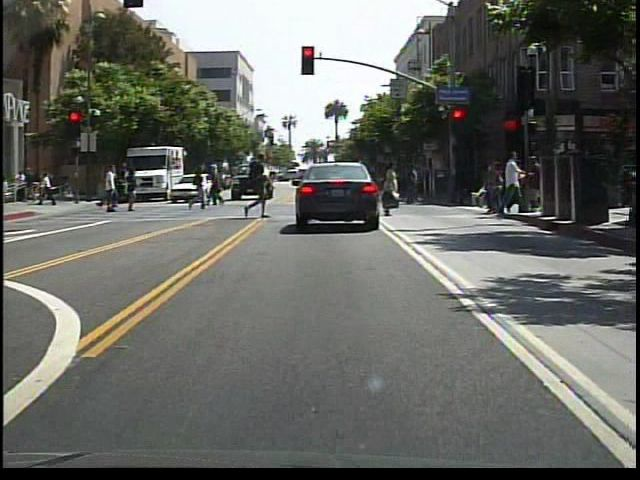person: (243, 150, 276, 224), (493, 149, 527, 213), (103, 165, 126, 217), (381, 162, 402, 218), (95, 166, 118, 213), (191, 168, 210, 215), (209, 165, 227, 209), (125, 169, 139, 214)
